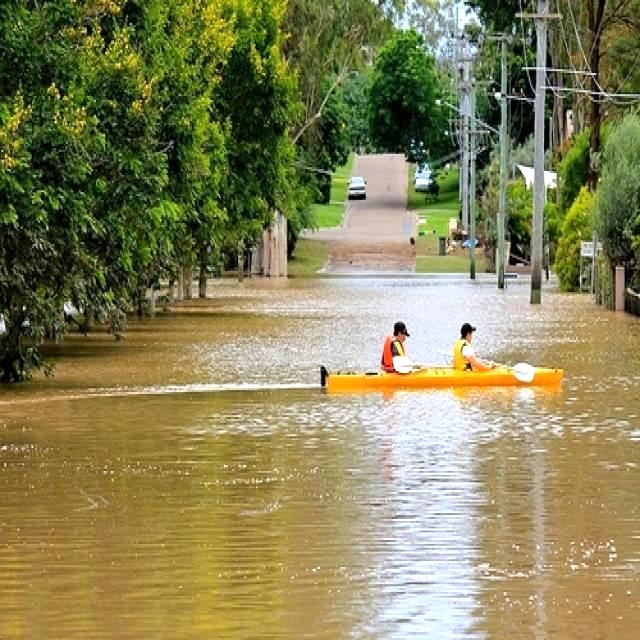rescuer: (378, 312, 416, 372), (449, 315, 483, 372)
